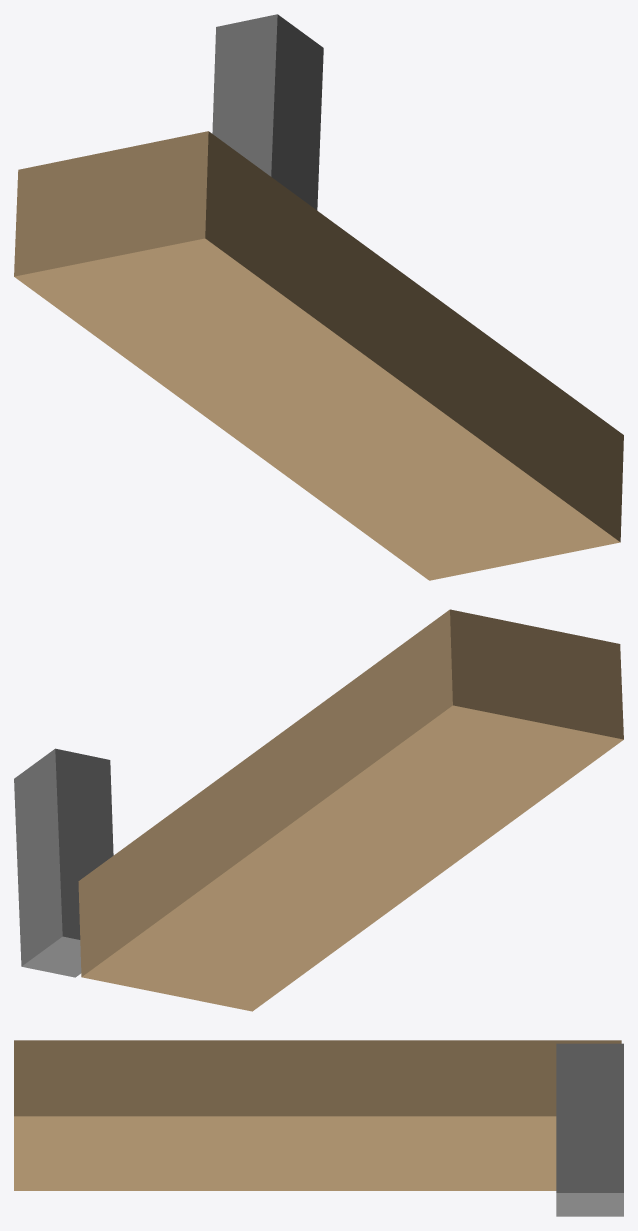
The picture shows the model from 3 angles, top to bottom: view 1: azimuth 30°, elevation 25°; view 2: azimuth 150°, elevation 25°; view 3: azimuth 270°, elevation 25°; orthographic projection. The views are drawn at different scales.
Visible parts, largest first — view 1: 0_2_3_2_3_3_2_3_2_1; view 2: 0_2_3_2_3_3_2_3_2_1; view 3: 0_2_3_2_3_3_2_3_2_1.
Boxes of the visible parts, left/top/right/bottom form: 0_2_3_2_3_3_2_3_2_1: left=14, top=14, right=623, bottom=580; 0_2_3_2_3_3_2_3_2_1: left=14, top=609, right=623, bottom=1011; 0_2_3_2_3_3_2_3_2_1: left=14, top=1040, right=623, bottom=1216.
Bounding box in the file's own units: 9.95 × 7.54 × 27.1.
